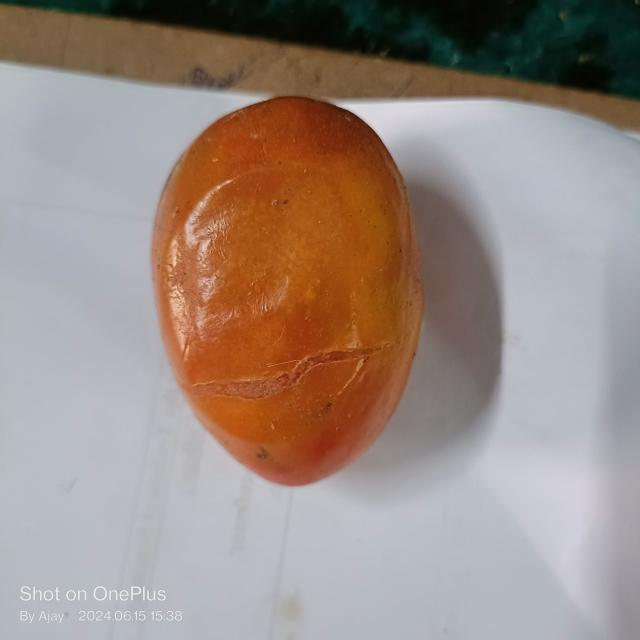Botrytis: (170, 341, 370, 398)
